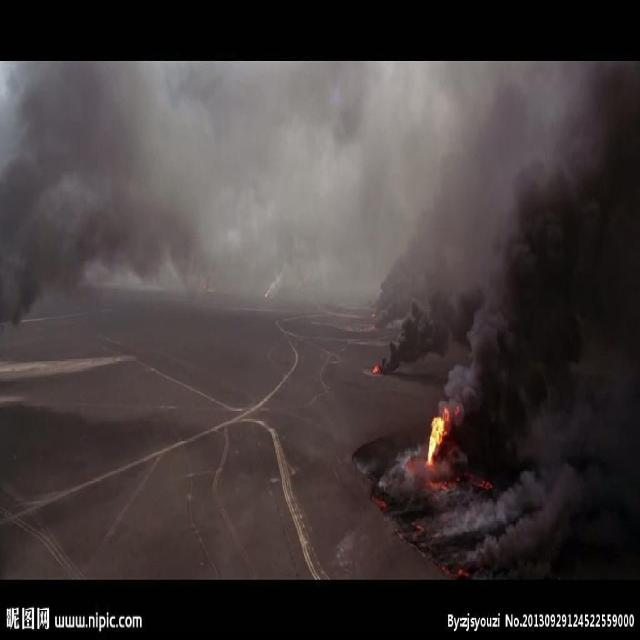fire: (424, 397, 462, 468), (370, 356, 379, 377), (368, 306, 374, 321)
smoke: (450, 195, 614, 472), (17, 84, 204, 282), (376, 120, 510, 306), (466, 491, 606, 576), (390, 290, 490, 356)
